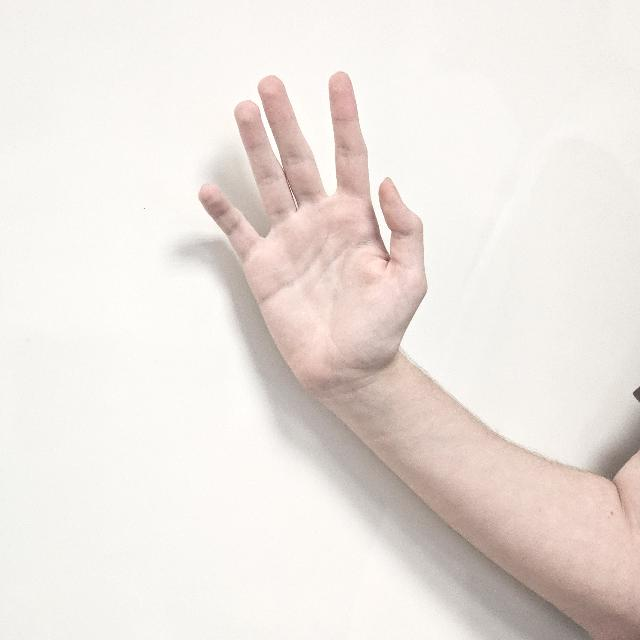X: (176, 70, 460, 450)
